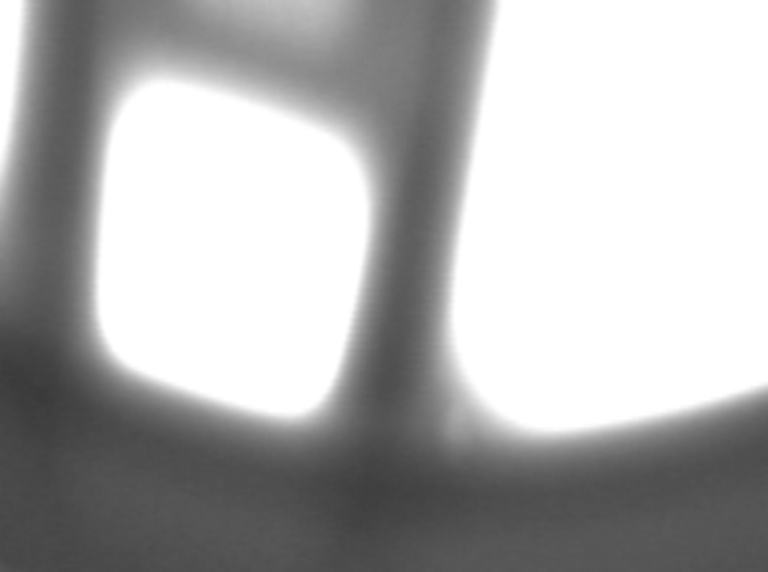defect: (439, 420, 476, 474)
